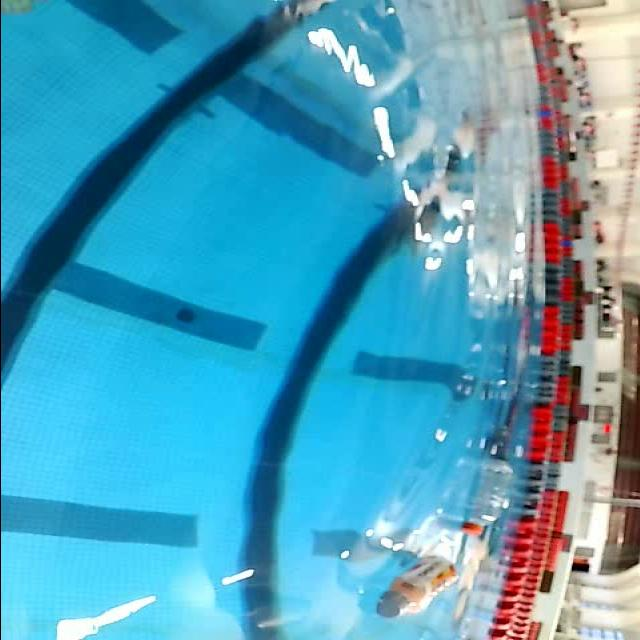Bottle: (365, 550, 461, 627), (452, 452, 518, 547)
